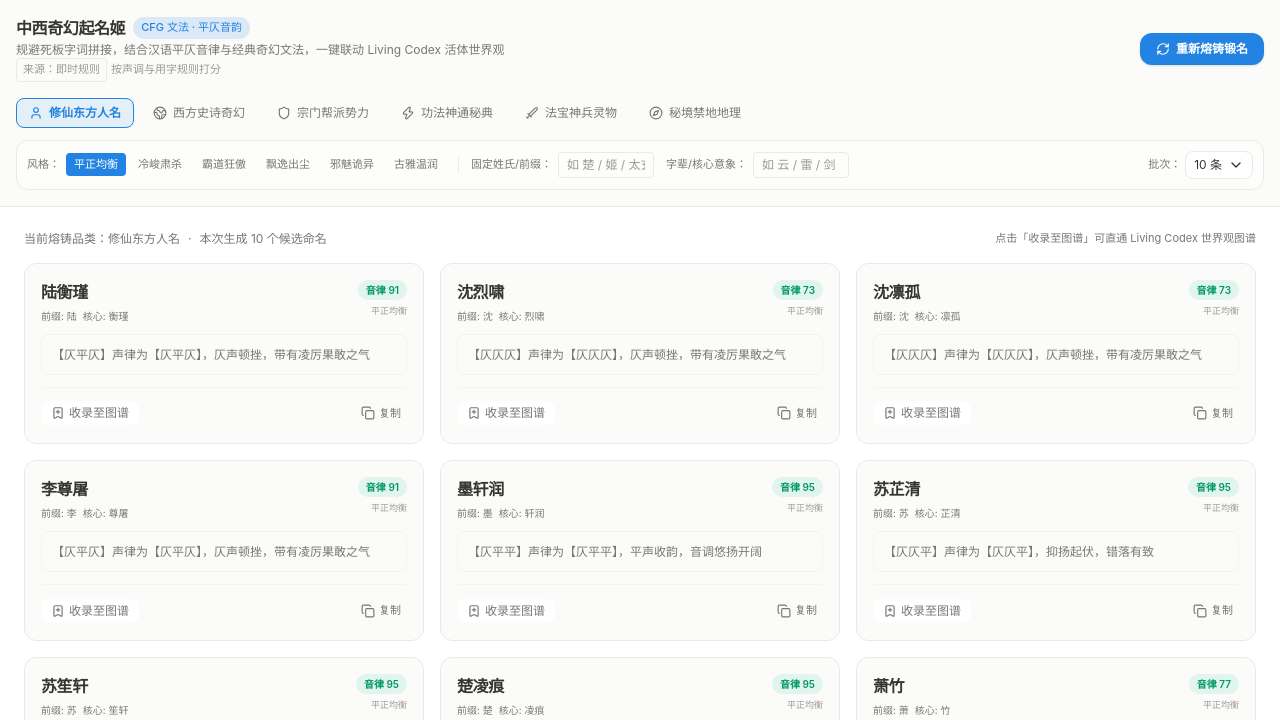
NameForgeView — 中西奇幻起名姬主视口 › allows switching category to western character names
The width and height of the screenshot is (1280, 720).
Click the button "西方史诗奇幻" at (199, 113), box [140,98,258,128]
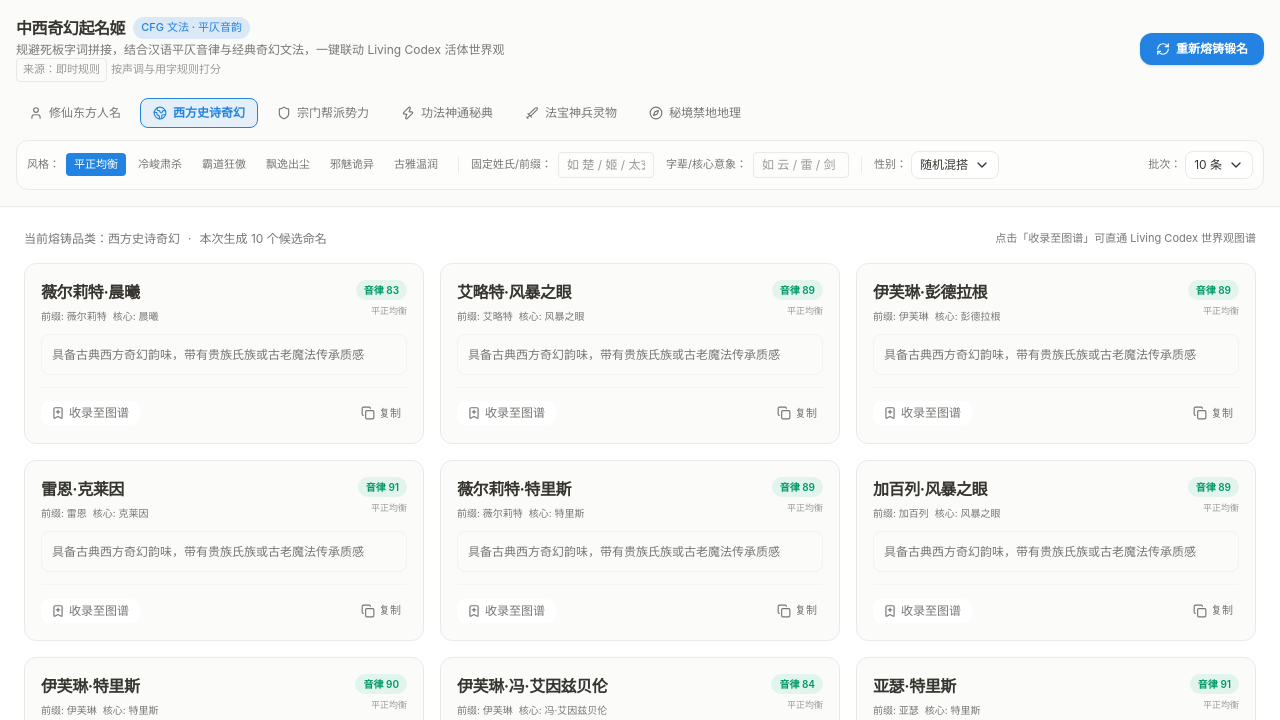
Expected: the text "CFG 文法 · 平仄音韵" is shown, [133,17,250,39]
Expected: the text "当前熔铸品类：西方史诗奇幻" is shown, [24,231,180,247]
